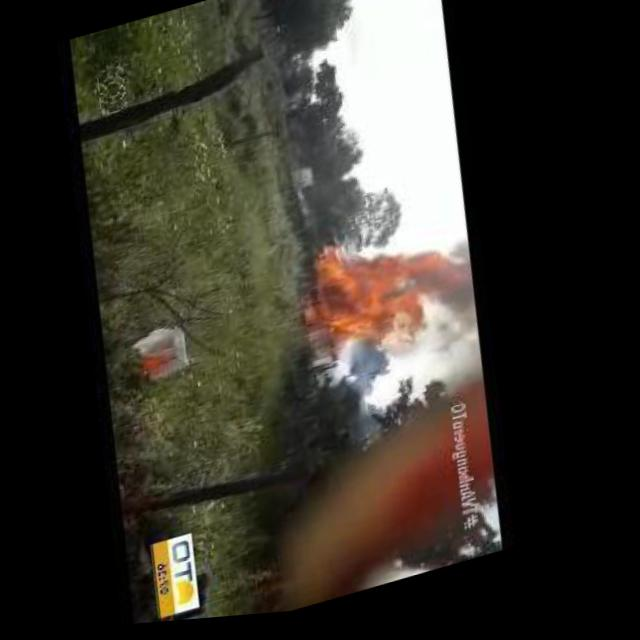Fire: (310, 220, 478, 372), (411, 213, 499, 365)
